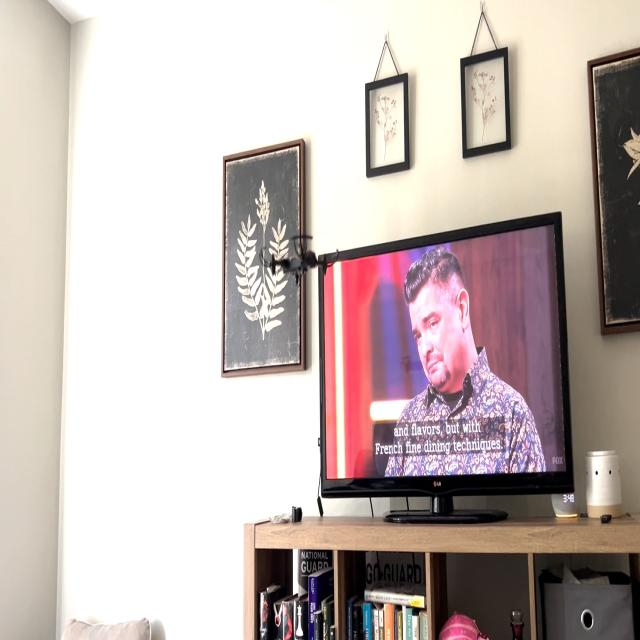drone: (254, 226, 344, 296)
